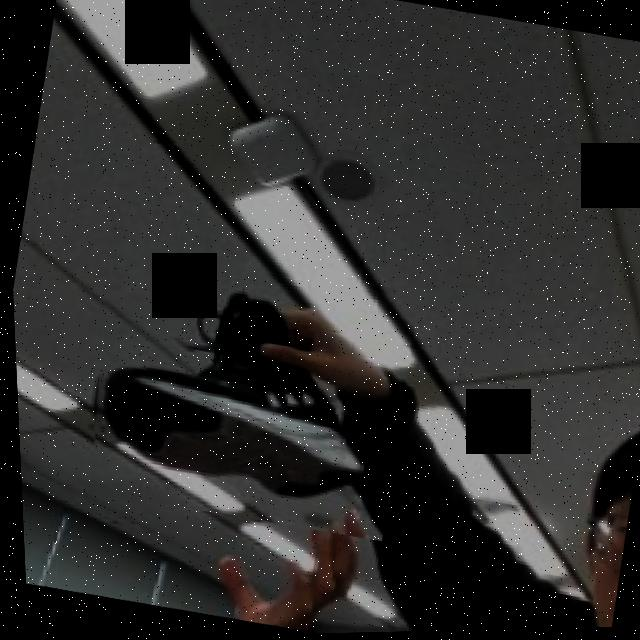shoe: (61, 241, 424, 549)
